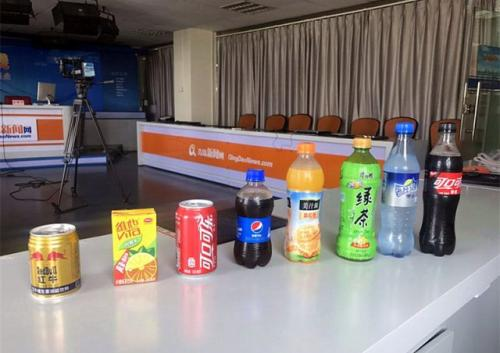coke_zero: (418, 112, 468, 264)
